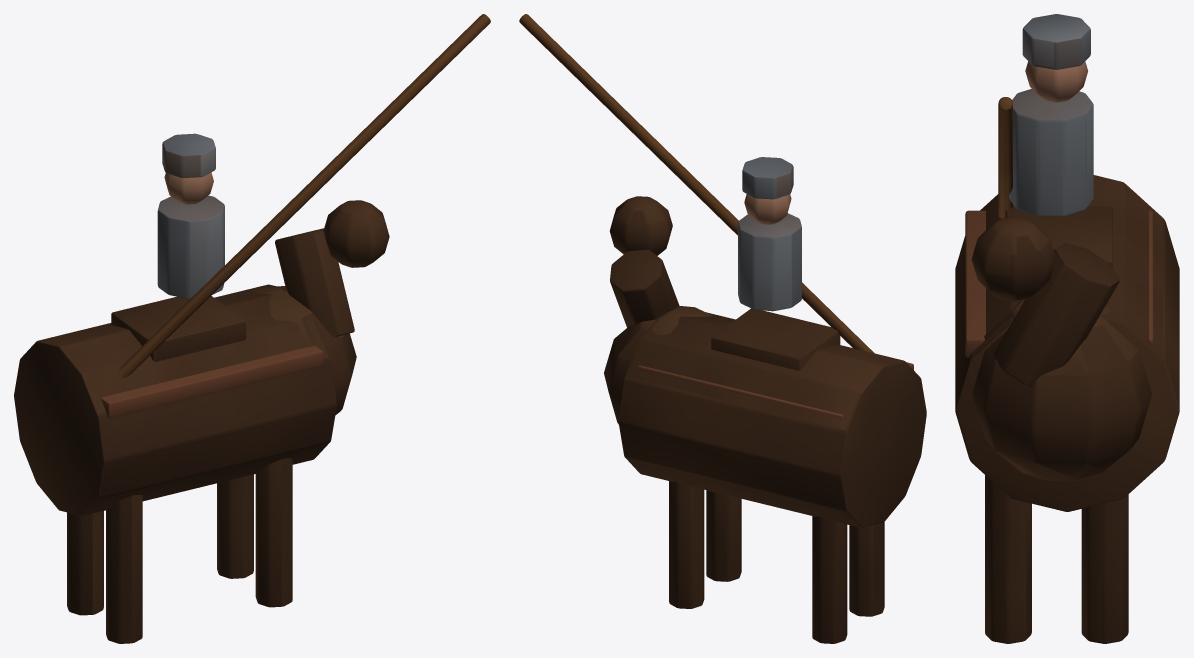
Rendered from unit_royal_commander.fbx.
3 views of the same model, side by side, from view 1: azimuth 30°, elevation 25°; view 2: azimuth 150°, elevation 25°; view 3: azimuth 270°, elevation 25° (orthographic). The views are drawn at different scales.
Visible parts, largest first — view 1: unit_royal_commander; view 2: unit_royal_commander; view 3: unit_royal_commander.
Boxes of the visible parts, x1,y1,x2,y2 form: unit_royal_commander: [14, 14, 490, 643]; unit_royal_commander: [519, 14, 926, 643]; unit_royal_commander: [955, 14, 1179, 643].
Size of the model in its own units: 2.17 by 2.73 by 0.8365.
